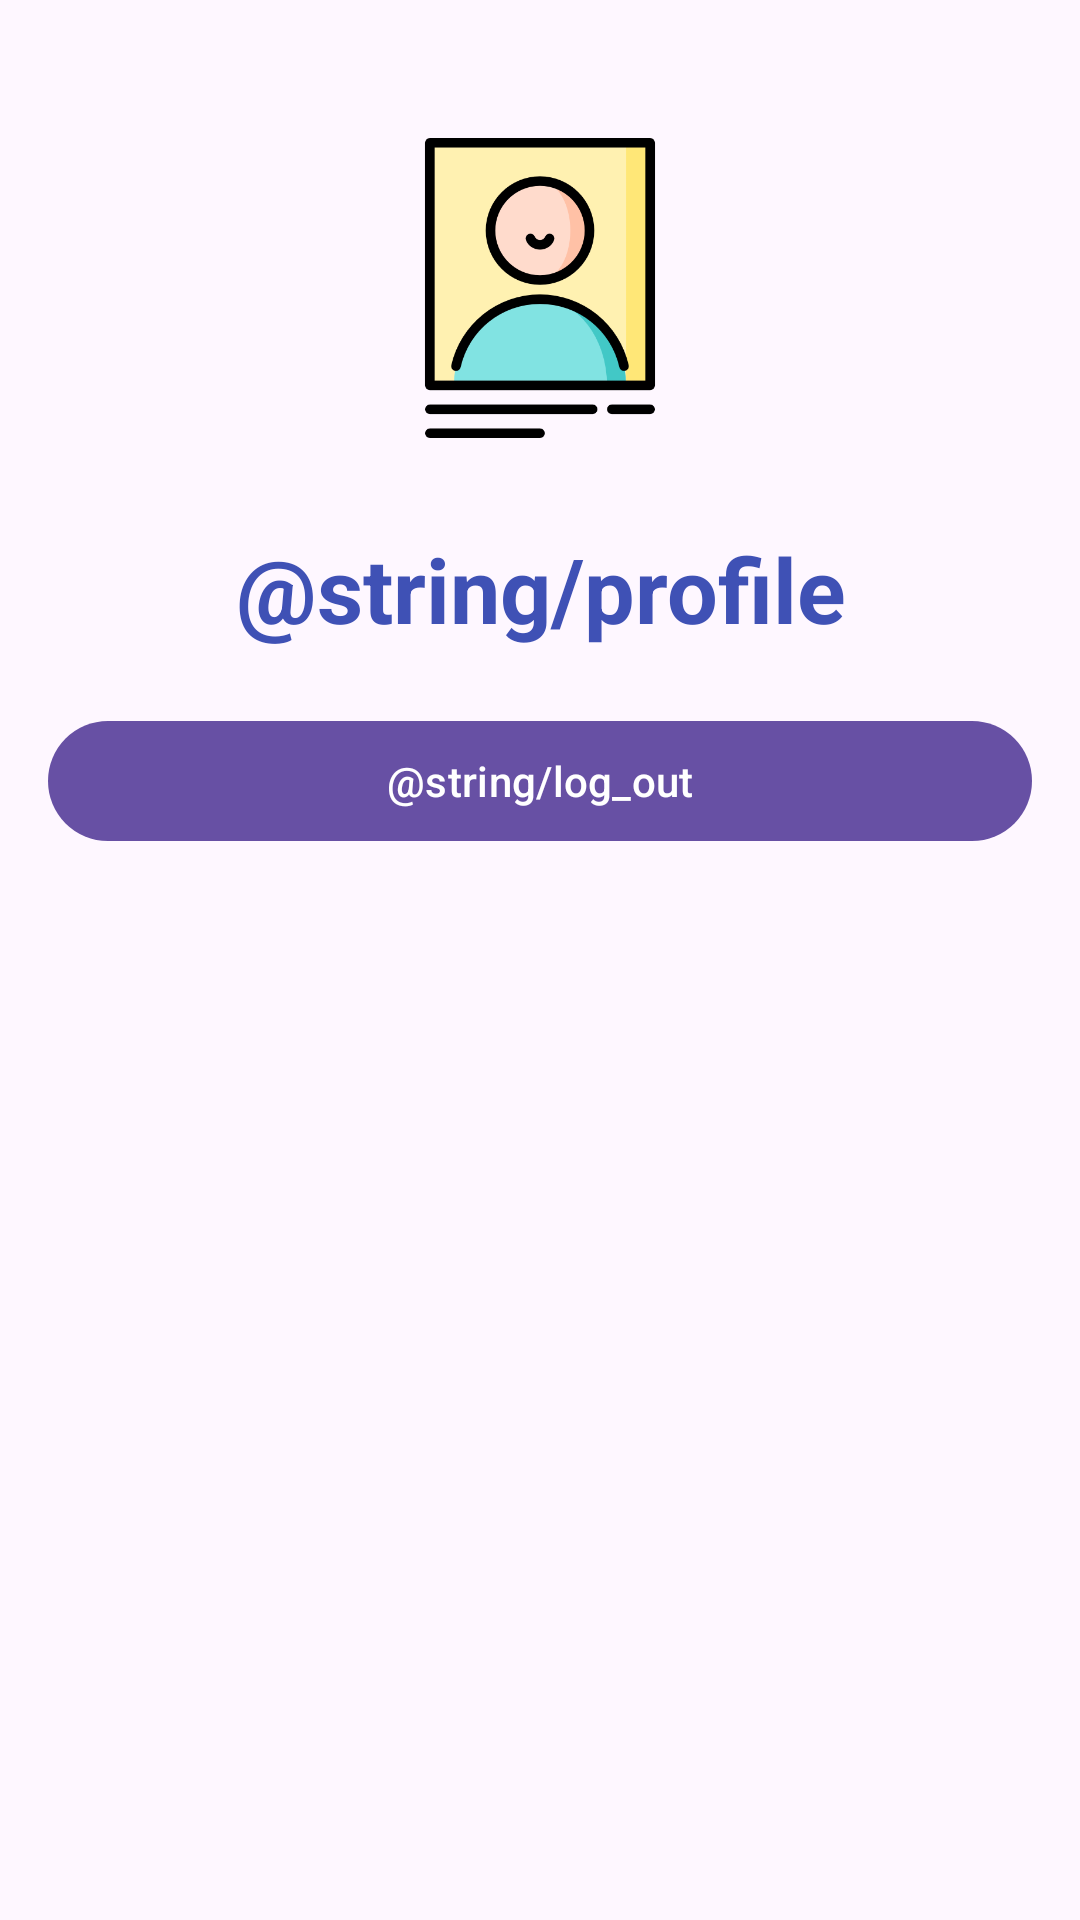

Locate icon controls on the screen. Image size 1080w x 1920h, boxes as (x1, y1, x2, y2).
Login Image: (425, 138, 655, 438)
